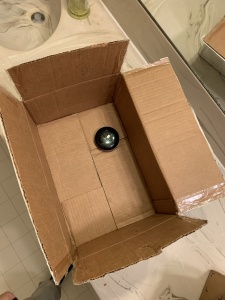innerbox: (39, 80, 156, 241)
outerbox: (5, 40, 206, 267)
product: (94, 126, 121, 151)
